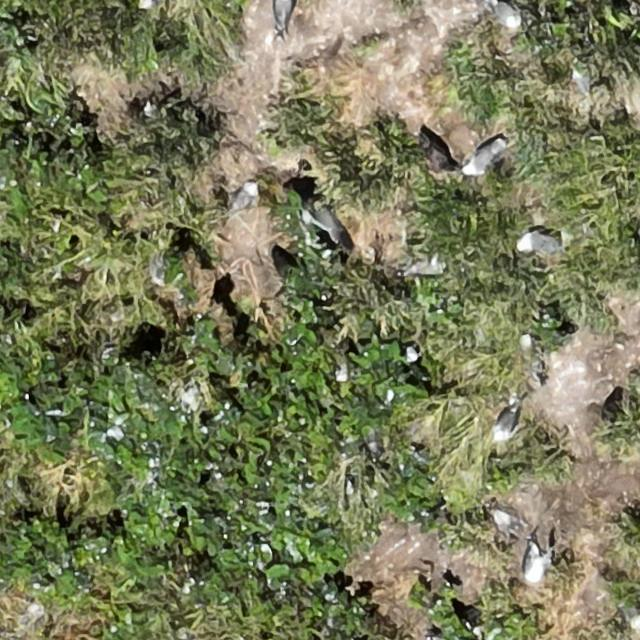umineko: (467, 142, 501, 172), (525, 542, 547, 581), (230, 184, 256, 212), (494, 407, 518, 437), (519, 233, 552, 252), (497, 3, 521, 27), (273, 2, 292, 29), (137, 0, 159, 7)
